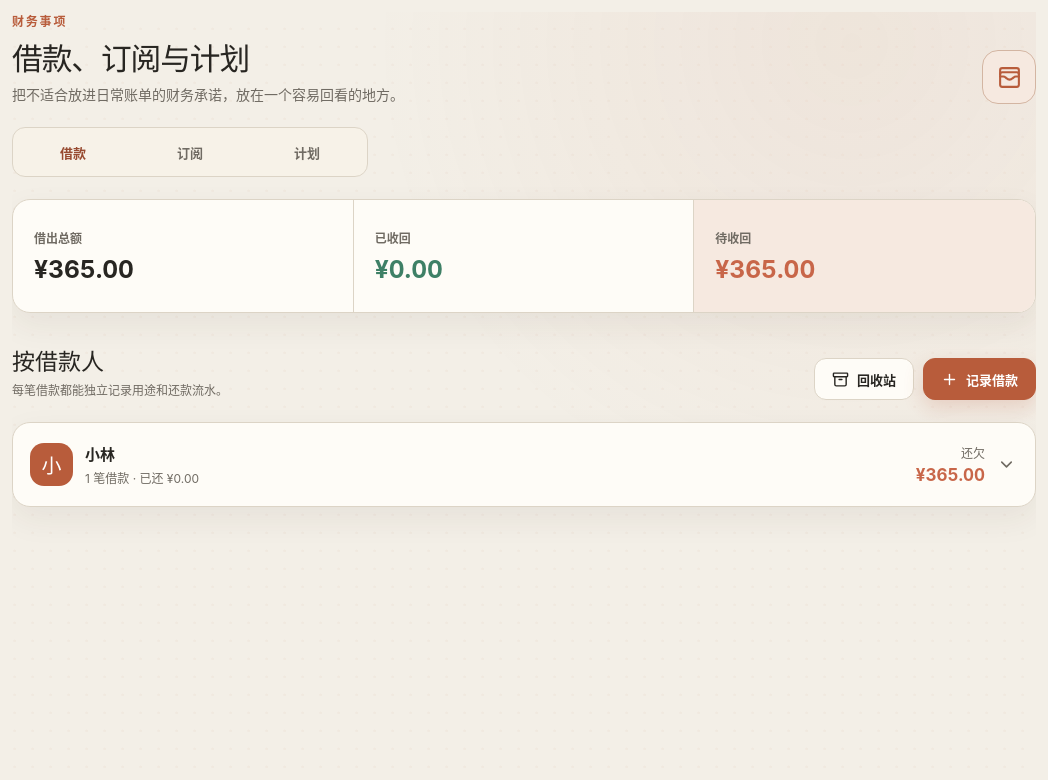
Test: 财务事项页面 › 按借款人展示余额，展开后显示用途并提供还款入口
Expected: the text "小林" is shown, left=85, top=445, right=115, bottom=464
Expected: the text "¥365.00" below "借出总额" is shown, left=34, top=254, right=134, bottom=284
Click the button "小 小林 1 笔借款 · 已还 ¥0.00 还欠 ¥365.00": click(52, 464) left=13, top=423, right=1035, bottom=506
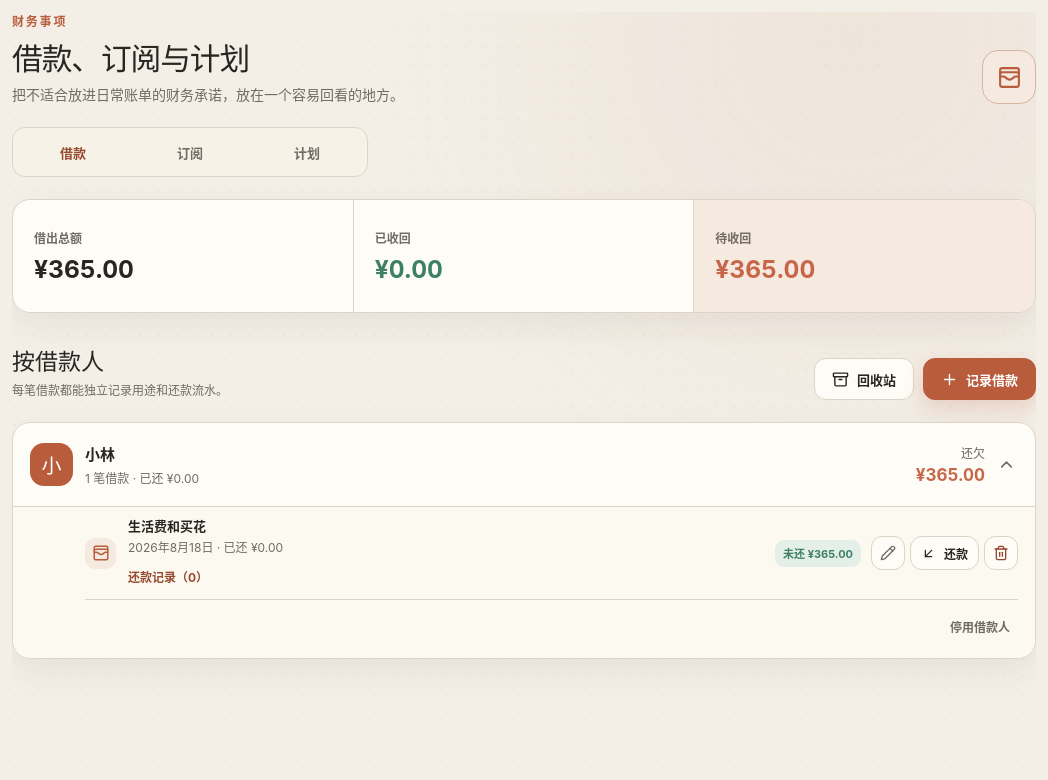
Now the text "生活费和买花" is shown, box left=128, top=518, right=206, bottom=534
Now the button "还款" is shown, box left=910, top=536, right=979, bottom=570
